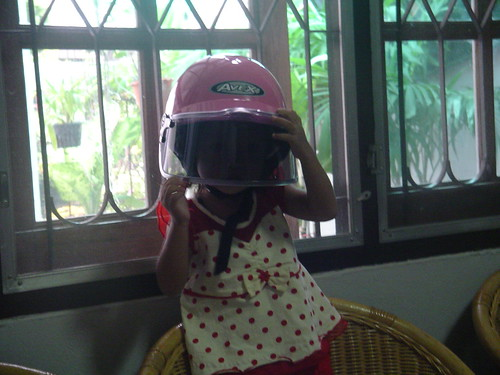helmet: (149, 47, 305, 207)
